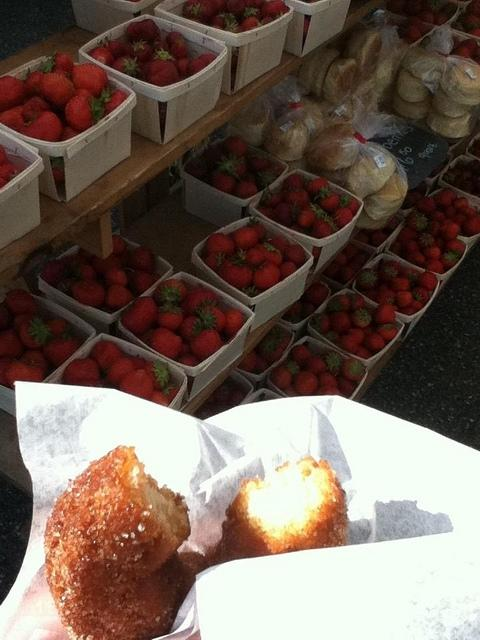strawberry: (122, 296, 157, 334), (89, 341, 124, 375), (5, 360, 44, 390), (39, 74, 75, 106), (63, 358, 100, 388), (44, 338, 82, 367), (191, 329, 224, 362), (72, 277, 106, 309), (180, 288, 218, 316), (20, 317, 52, 350), (119, 370, 154, 400), (218, 259, 252, 289), (212, 158, 240, 194), (152, 328, 182, 359), (143, 359, 171, 392), (155, 279, 188, 306), (194, 306, 226, 332), (6, 288, 38, 314), (129, 245, 159, 272), (108, 358, 136, 386), (158, 302, 184, 332), (22, 96, 52, 122), (223, 309, 248, 340), (206, 233, 236, 258), (255, 242, 283, 268), (254, 262, 280, 289), (299, 202, 326, 228), (106, 285, 132, 312), (0, 329, 25, 357), (311, 213, 337, 239), (180, 315, 204, 343), (0, 106, 25, 132), (274, 202, 301, 226), (232, 248, 264, 268), (318, 185, 340, 214), (259, 336, 283, 362), (133, 270, 158, 294), (357, 268, 382, 292), (294, 372, 318, 396), (342, 358, 366, 382), (338, 191, 360, 217), (284, 186, 310, 208), (323, 351, 343, 378), (104, 266, 128, 288), (336, 374, 358, 398), (284, 245, 306, 269), (271, 366, 292, 391), (268, 235, 290, 258), (260, 187, 282, 210), (308, 282, 329, 306), (399, 268, 420, 292), (204, 250, 225, 274), (228, 150, 246, 177), (235, 228, 257, 250), (288, 344, 310, 366), (334, 334, 358, 354), (438, 222, 462, 242), (170, 36, 188, 62), (350, 308, 372, 329), (374, 303, 396, 324), (329, 312, 350, 334), (376, 324, 398, 345), (400, 238, 421, 260), (328, 294, 351, 314), (400, 191, 424, 210), (44, 318, 66, 338), (406, 213, 428, 233), (0, 163, 23, 182), (239, 348, 257, 372), (416, 197, 441, 214), (332, 206, 352, 227), (310, 313, 330, 334), (304, 357, 326, 376), (416, 272, 438, 291), (74, 264, 98, 281), (390, 278, 414, 294), (284, 174, 304, 193), (160, 383, 180, 402), (280, 261, 298, 282), (462, 216, 480, 237), (236, 182, 258, 199), (399, 25, 421, 42), (225, 0, 247, 17), (422, 258, 445, 274), (411, 287, 430, 306), (250, 354, 268, 374), (248, 218, 266, 238), (440, 250, 458, 270), (56, 279, 76, 297), (307, 177, 328, 194), (178, 352, 200, 368), (317, 372, 339, 388), (416, 232, 434, 251), (150, 390, 169, 408), (378, 266, 397, 284), (338, 264, 355, 284), (151, 46, 173, 61), (394, 291, 412, 309), (368, 230, 386, 248), (446, 240, 464, 258), (406, 252, 426, 268), (256, 206, 277, 221), (421, 1, 442, 15), (112, 235, 126, 255), (352, 346, 372, 360), (226, 390, 243, 406), (352, 252, 369, 268), (301, 302, 318, 318), (349, 293, 364, 311), (377, 290, 396, 304), (449, 46, 471, 58), (352, 324, 374, 336), (436, 192, 453, 207), (314, 387, 342, 396), (242, 286, 263, 298), (423, 246, 441, 260), (214, 387, 230, 402), (426, 221, 440, 238), (282, 384, 300, 397), (294, 292, 308, 308), (451, 213, 465, 228), (324, 331, 340, 344), (354, 234, 371, 246), (428, 211, 446, 222), (326, 260, 340, 274), (466, 14, 480, 28), (452, 198, 468, 210), (334, 252, 347, 266), (396, 308, 416, 316), (287, 314, 302, 324), (388, 218, 400, 230), (412, 300, 423, 312), (455, 160, 467, 171), (214, 406, 228, 414), (468, 147, 480, 156), (350, 263, 360, 273), (431, 168, 441, 176), (309, 0, 320, 3)
